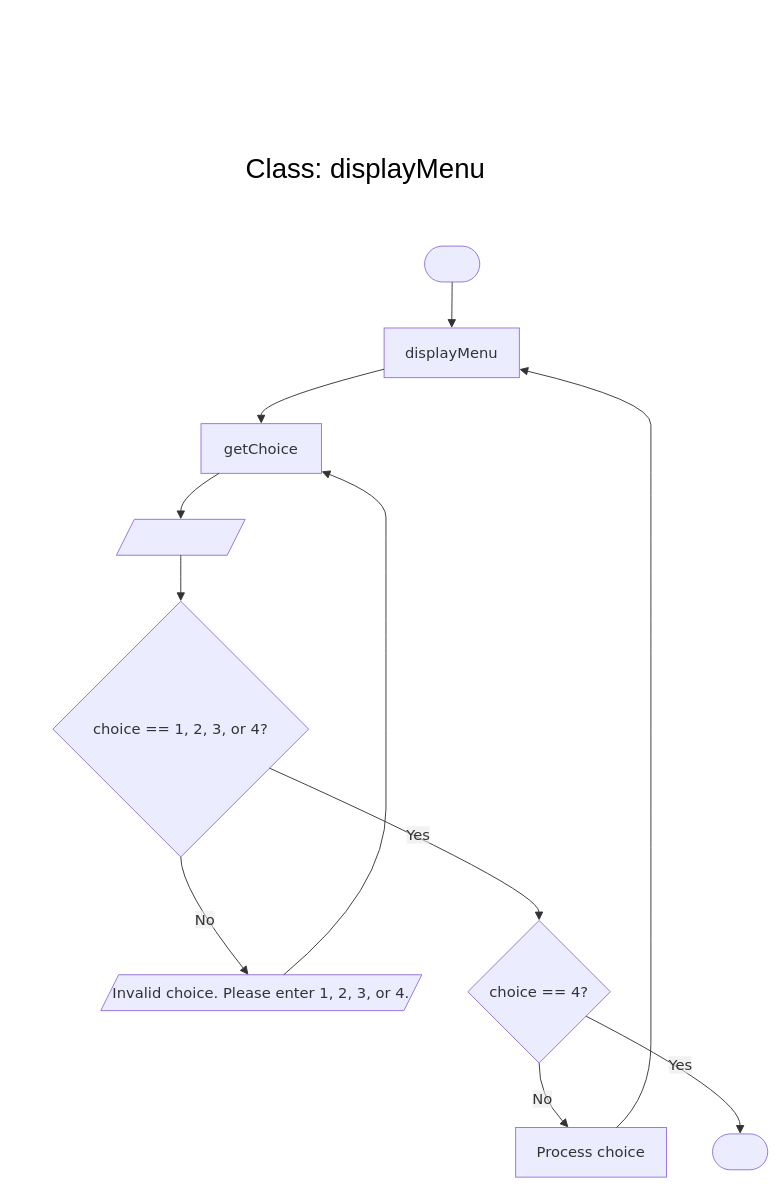
Some shapes in this 784 by 1193 pixel diagram are drawn without their labels. The centre of each missing label's shape, as x and y in pixels:
"Exit" goes at (x=740, y=1151).
"Read choice" goes at (x=180, y=536).
"Start" goes at (x=452, y=263).
